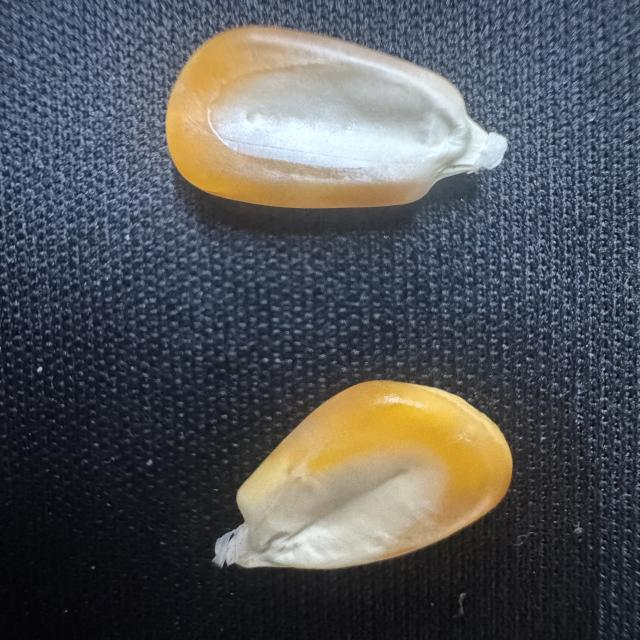Good-Seed: (160, 20, 512, 214), (206, 374, 518, 574)
